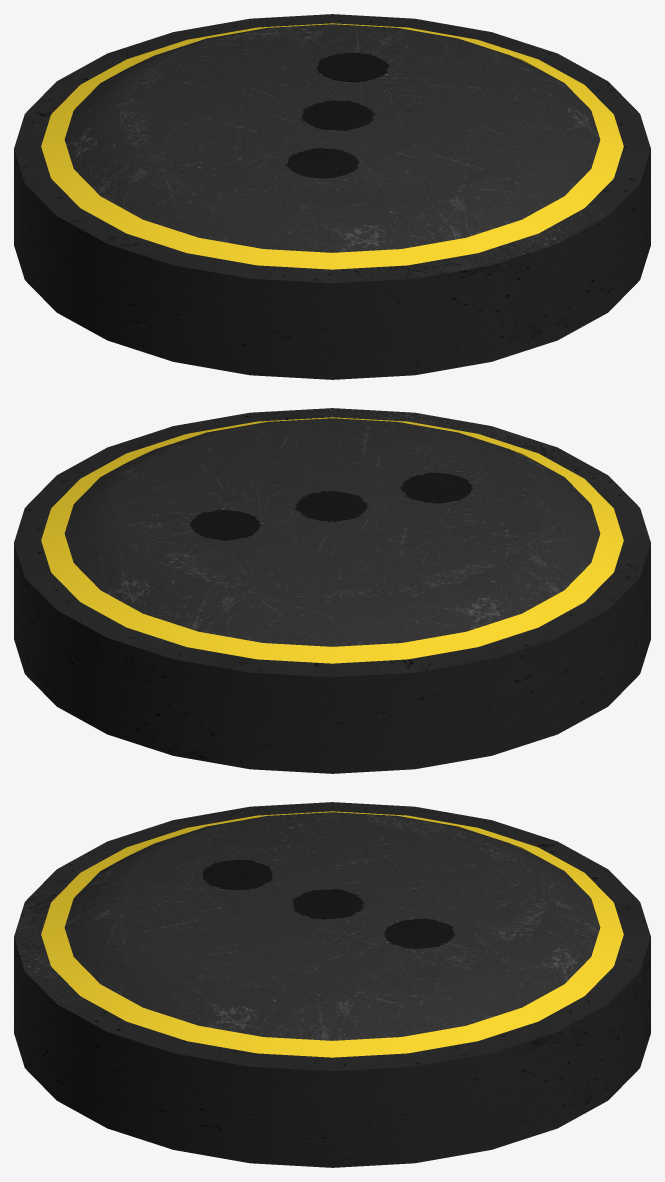
The model's file is F_InfoButton_01 (2).fbx.
3 renders of one model, top to bottom at view 1: azimuth 30°, elevation 25°; view 2: azimuth 150°, elevation 25°; view 3: azimuth 270°, elevation 25°, orthographic.
Visible parts, largest first — view 1: F_InfoButton_01; view 2: F_InfoButton_01; view 3: F_InfoButton_01.
Boxes of the visible parts, x1=… form: F_InfoButton_01: x1=14, y1=14, x2=650, y2=379; F_InfoButton_01: x1=14, y1=408, x2=650, y2=773; F_InfoButton_01: x1=14, y1=802, x2=650, y2=1167.
Bounding box in the file's own units: 30.01 × 6.78 × 30.01.
